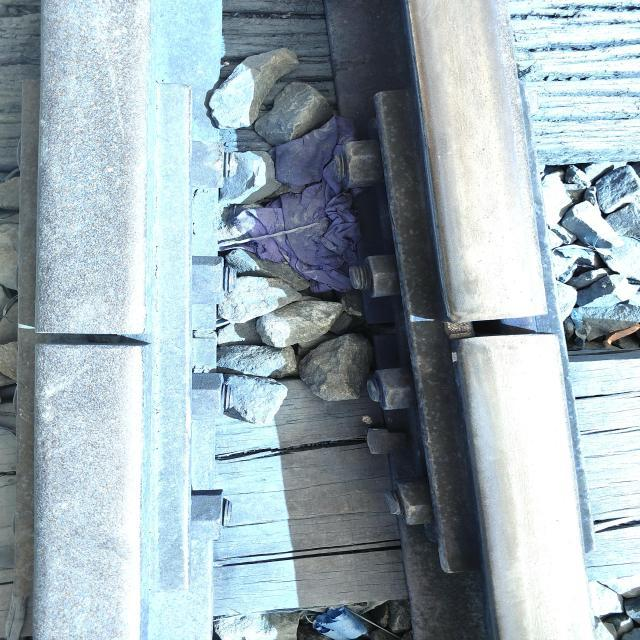Good Joint: (356, 95, 623, 607)
